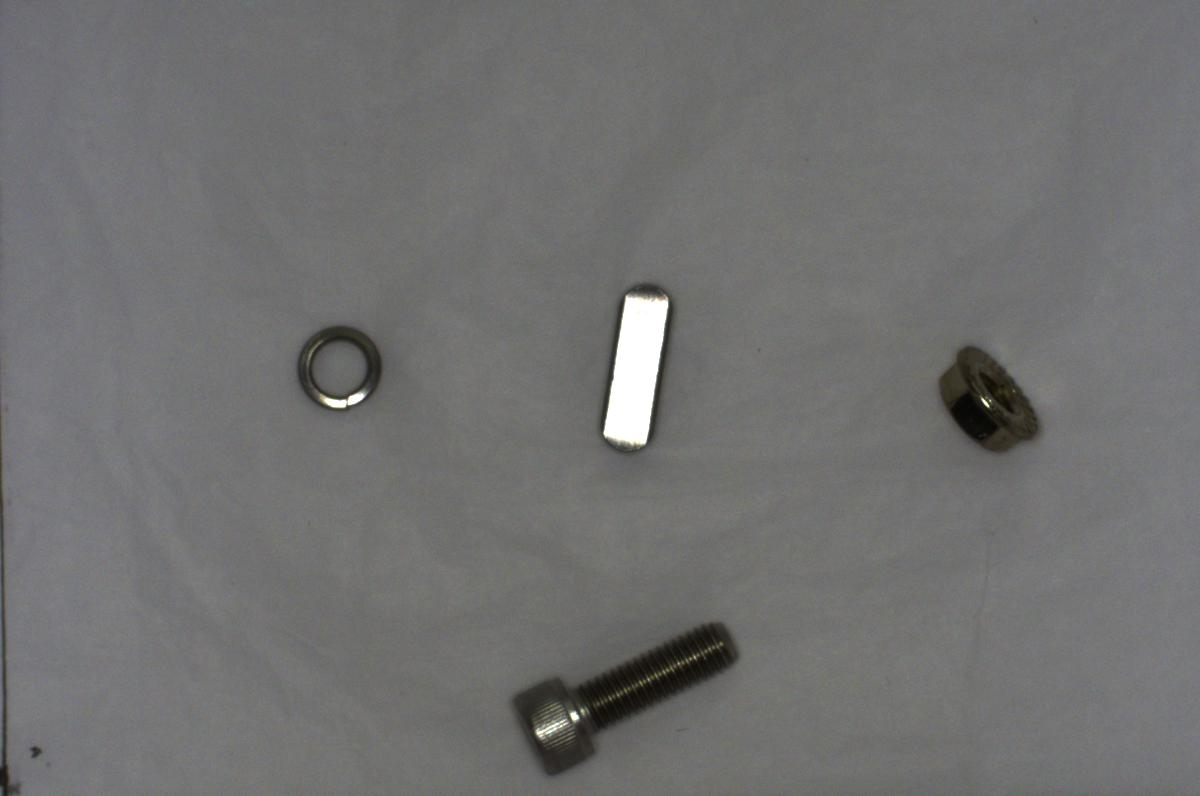Flange nut: (930, 338, 1052, 459)
Hexagon screw: (500, 619, 742, 775)
Keybar: (580, 272, 674, 460)
Spring washer: (288, 314, 394, 423)
